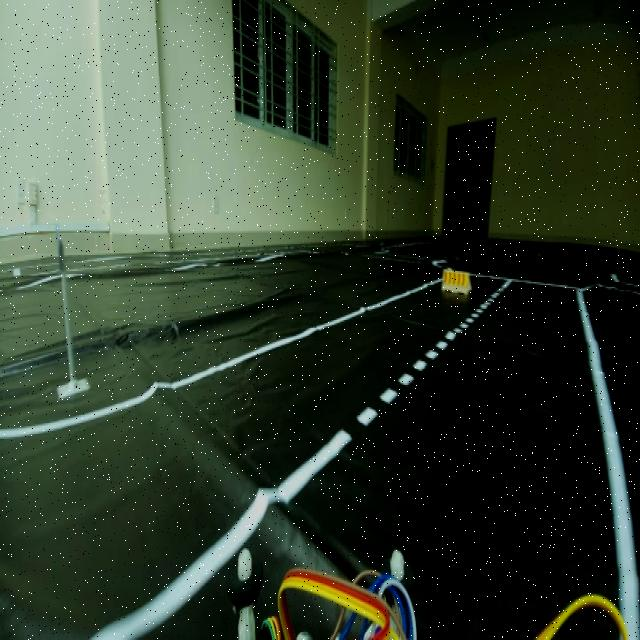roadblock: (439, 264, 477, 298)
